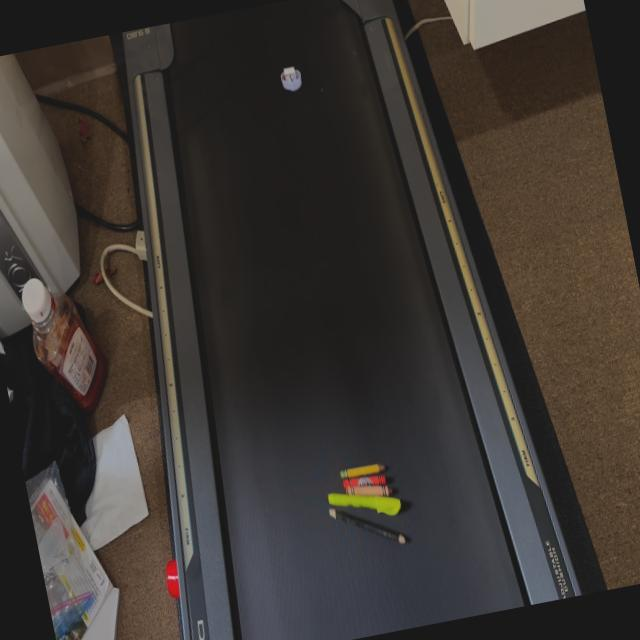Trash: (320, 458, 410, 562), (276, 64, 306, 95)
